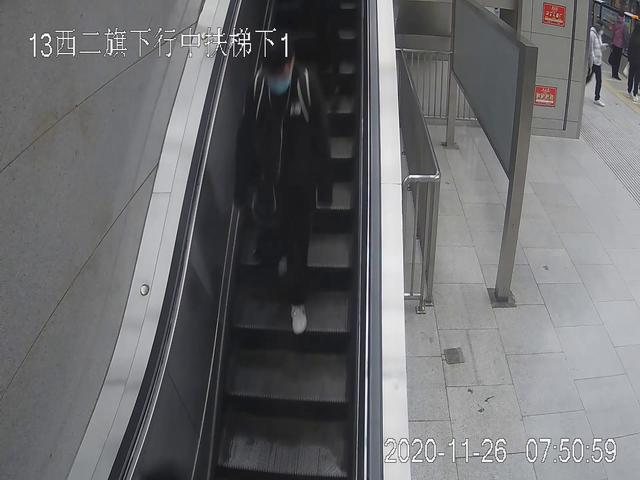person: (235, 38, 331, 334), (582, 20, 608, 109), (609, 13, 624, 78)
